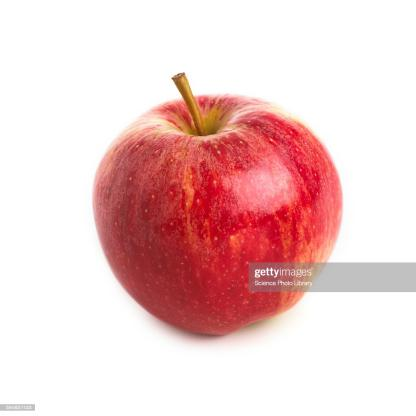Apple: (96, 56, 367, 346)
